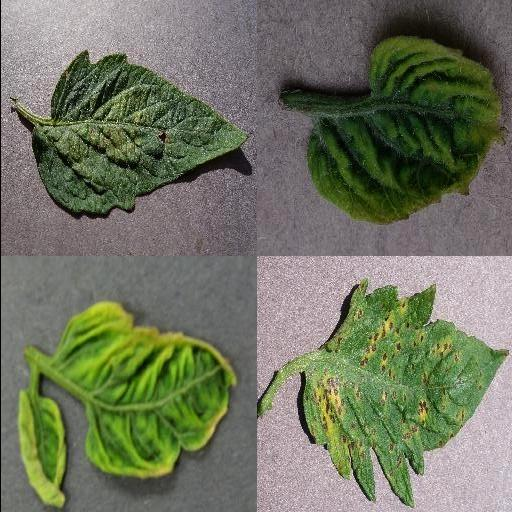Septoria: (301, 279, 509, 509)
Spider Mites: (31, 48, 251, 218)
Yellow Leaf Curl Virus: (303, 34, 507, 227), (57, 300, 237, 480), (18, 391, 70, 509)
